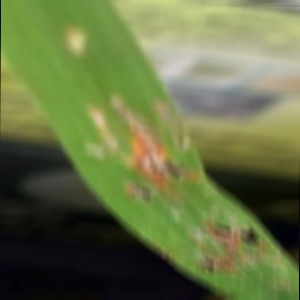Brown_Spot: (200, 211, 270, 258), (145, 94, 197, 155), (175, 247, 246, 284), (126, 154, 192, 187), (118, 174, 163, 209)
